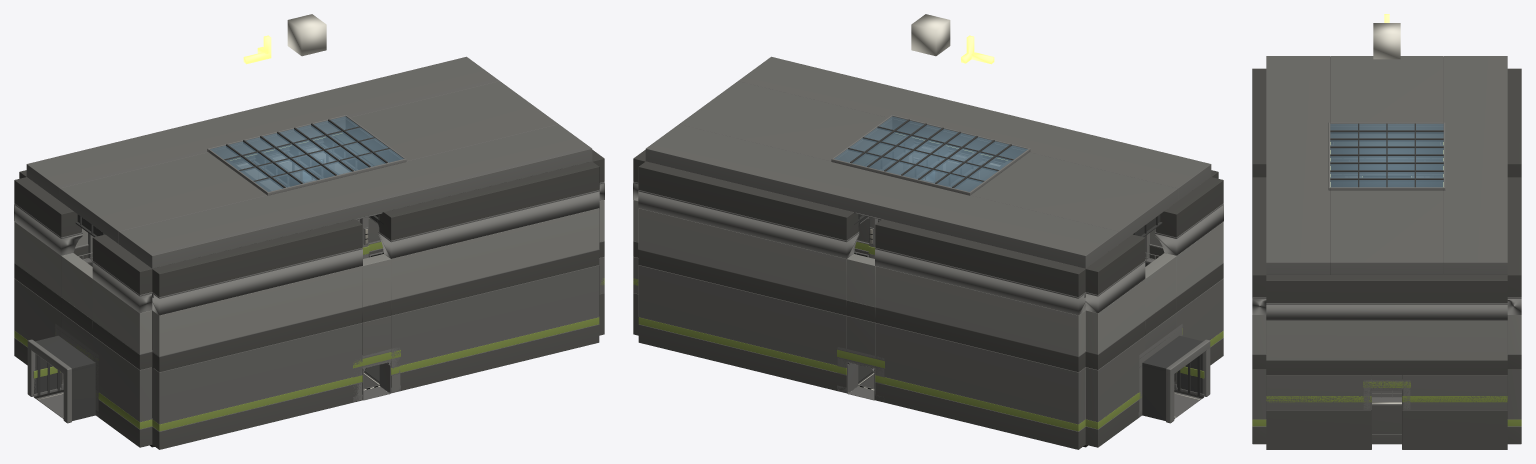
The model's file is hub_r1.fbx.
3 renders of one model, left to right at view 1: azimuth 30°, elevation 25°; view 2: azimuth 150°, elevation 25°; view 3: azimuth 270°, elevation 25°, orthographic. The views are drawn at different scales.
Parts seen in each view (by area): view 1: H_Roof__ceiling, H_WallS__wall_body, H_WallS__wall_dark, H_WallS__wall_upper, H_WallS__wall_kick, H_WallS__wall_light, H_Skylight__glass, H_WallE__wall_dark, H_WallE__wall_upper, H_WallE__wall_body, H_WallS__band_olive, H_Skylight__beam_metal (+12 smaller); view 2: H_Roof__ceiling, H_WallN__wall_body, H_WallN__wall_dark, H_WallN__wall_upper, H_WallN__wall_kick, H_WallN__wall_light, H_Skylight__glass, H_WallE__wall_dark, H_WallE__wall_upper, H_WallE__wall_body, H_WallN__band_olive, H_Skylight__beam_metal (+12 smaller); view 3: H_Roof__ceiling, H_WallW__wall_dark, H_WallW__wall_upper, H_WallW__wall_kick, H_WallW__wall_body, H_Skylight__glass, H_WallW__wall_light, H_WallN__wall_dark, H_WallS__wall_dark, H_Skylight__beam_metal, H_Beams__beam_metal, H_WallW__band_olive (+12 smaller).
Part boxes in pixels (x1=…): H_Roof__ceiling: x1=26, y1=56, x2=592, y2=268; H_WallS__wall_body: x1=152, y1=265, x2=599, y2=423; H_WallS__wall_dark: x1=152, y1=161, x2=599, y2=372; H_WallS__wall_upper: x1=152, y1=208, x2=599, y2=356; H_WallS__wall_kick: x1=152, y1=325, x2=599, y2=449; H_WallS__wall_light: x1=152, y1=191, x2=599, y2=315; H_Skylight__glass: x1=210, y1=116, x2=403, y2=191; H_WallE__wall_dark: x1=14, y1=177, x2=152, y2=369; H_WallE__wall_upper: x1=14, y1=222, x2=151, y2=354; H_WallE__wall_body: x1=14, y1=278, x2=151, y2=421; H_WallS__band_olive: x1=152, y1=317, x2=599, y2=431; H_Skylight__beam_metal: x1=224, y1=119, x2=389, y2=188; H_Roof__ceiling: x1=645, y1=56, x2=1211, y2=268; H_WallN__wall_body: x1=638, y1=265, x2=1085, y2=423; H_WallN__wall_dark: x1=638, y1=161, x2=1085, y2=372; H_WallN__wall_upper: x1=638, y1=208, x2=1085, y2=356; H_WallN__wall_kick: x1=638, y1=325, x2=1085, y2=449; H_WallN__wall_light: x1=638, y1=191, x2=1085, y2=315; H_Skylight__glass: x1=834, y1=116, x2=1027, y2=191; H_WallE__wall_dark: x1=1085, y1=177, x2=1223, y2=369; H_WallE__wall_upper: x1=1086, y1=222, x2=1223, y2=353; H_WallE__wall_body: x1=1086, y1=278, x2=1223, y2=421; H_WallN__band_olive: x1=638, y1=317, x2=1085, y2=431; H_Skylight__beam_metal: x1=848, y1=119, x2=1013, y2=188; H_Roof__ceiling: x1=1266, y1=56, x2=1507, y2=274; H_WallW__wall_dark: x1=1266, y1=275, x2=1507, y2=375; H_WallW__wall_upper: x1=1266, y1=320, x2=1507, y2=360; H_WallW__wall_kick: x1=1266, y1=410, x2=1507, y2=449; H_WallW__wall_body: x1=1266, y1=375, x2=1507, y2=410; H_Skylight__glass: x1=1330, y1=123, x2=1443, y2=187; H_WallW__wall_light: x1=1266, y1=304, x2=1507, y2=320; H_WallN__wall_dark: x1=1507, y1=68, x2=1521, y2=369; H_WallS__wall_dark: x1=1252, y1=68, x2=1266, y2=369; H_Skylight__beam_metal: x1=1330, y1=123, x2=1443, y2=187; H_Beams__beam_metal: x1=1330, y1=142, x2=1443, y2=186; H_WallW__band_olive: x1=1266, y1=396, x2=1507, y2=402.
Size of the model in its own units: 20000 by 12600 by 9800.
